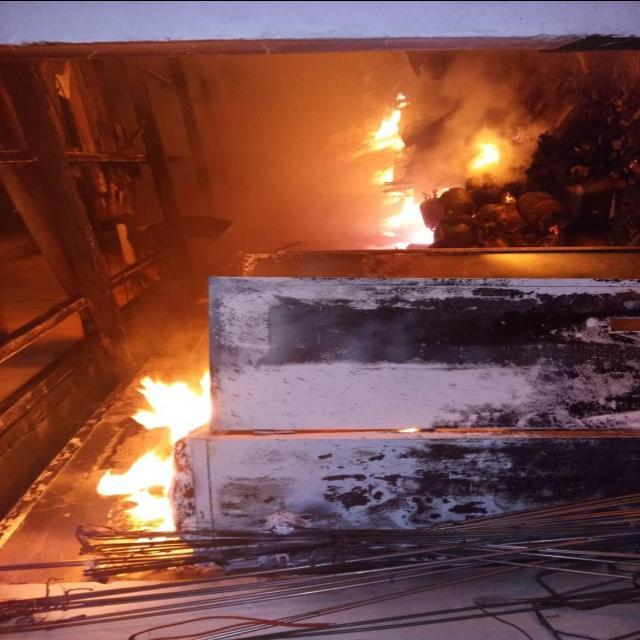Fire: (104, 363, 206, 543), (376, 190, 439, 248), (360, 88, 406, 154), (464, 129, 500, 169), (370, 163, 396, 187)
